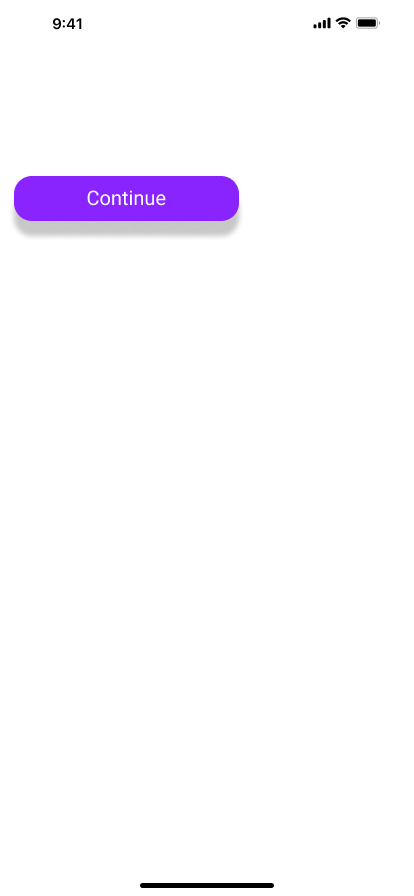Buttons: (8, 176, 245, 242)
Home Indicator: (0, 862, 414, 896)
Status Bar: (0, 0, 414, 44)
